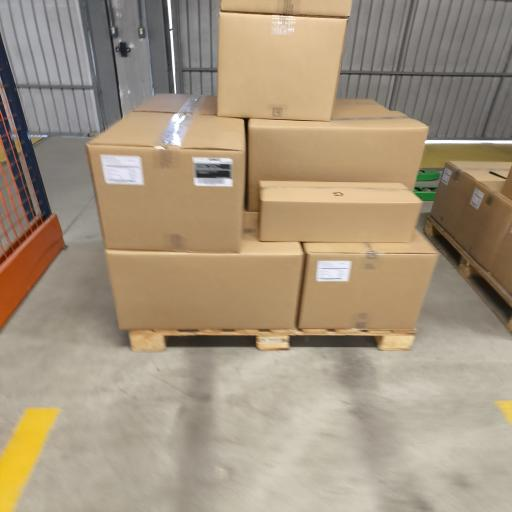pallet: (425, 217, 511, 331), (130, 329, 415, 351)
